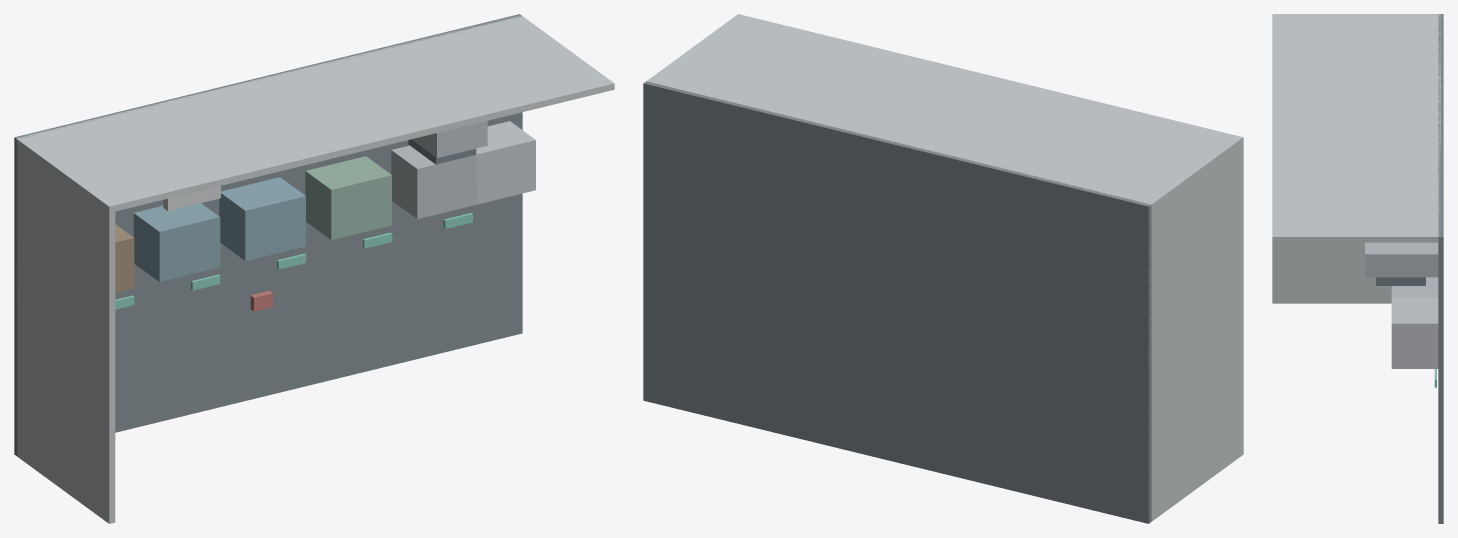
Rendered from cme-room-high.glb.
3 views of the same model, side by side, from view 1: azimuth 30°, elevation 25°; view 2: azimuth 150°, elevation 25°; view 3: azimuth 270°, elevation 25° (orthographic). The views are drawn at different scales.
Parts seen in each view (by area): view 1: floor, wall_back, wall_left, packing, inspection, cleaning, sterilizer, sterile_storage, autoclave, receiving_dirty, cleaning_sink; view 2: floor, wall_back, wall_left; view 3: wall_back, wall_left, sterile_storage, floor, autoclave, sterilizer, autoclave_door.
Part boxes in pixels (left/top/right/bottom): floor: left=14, top=14, right=522, bottom=456; wall_back: left=16, top=15, right=614, bottom=212; wall_left: left=16, top=138, right=115, bottom=523; packing: left=305, top=156, right=391, bottom=239; inspection: left=219, top=177, right=305, bottom=260; cleaning: left=133, top=203, right=220, bottom=281; sterilizer: left=391, top=145, right=477, bottom=219; sterile_storage: left=475, top=121, right=535, bottom=204; autoclave: left=412, top=121, right=487, bottom=157; receiving_dirty: left=115, top=224, right=134, bottom=292; cleaning_sink: left=163, top=186, right=220, bottom=210; floor: left=643, top=81, right=1151, bottom=523; wall_back: left=646, top=14, right=1243, bottom=210; wall_left: left=1145, top=136, right=1243, bottom=521; wall_back: left=1272, top=14, right=1440, bottom=242; wall_left: left=1272, top=14, right=1440, bottom=303; sterile_storage: left=1391, top=296, right=1438, bottom=368; floor: left=1438, top=14, right=1443, bottom=523; autoclave: left=1365, top=242, right=1438, bottom=277; sterilizer: left=1391, top=277, right=1438, bottom=297; autoclave_door: left=1376, top=277, right=1425, bottom=285.
Bounding box in the file's own units: 10 × 6 × 3.25.
